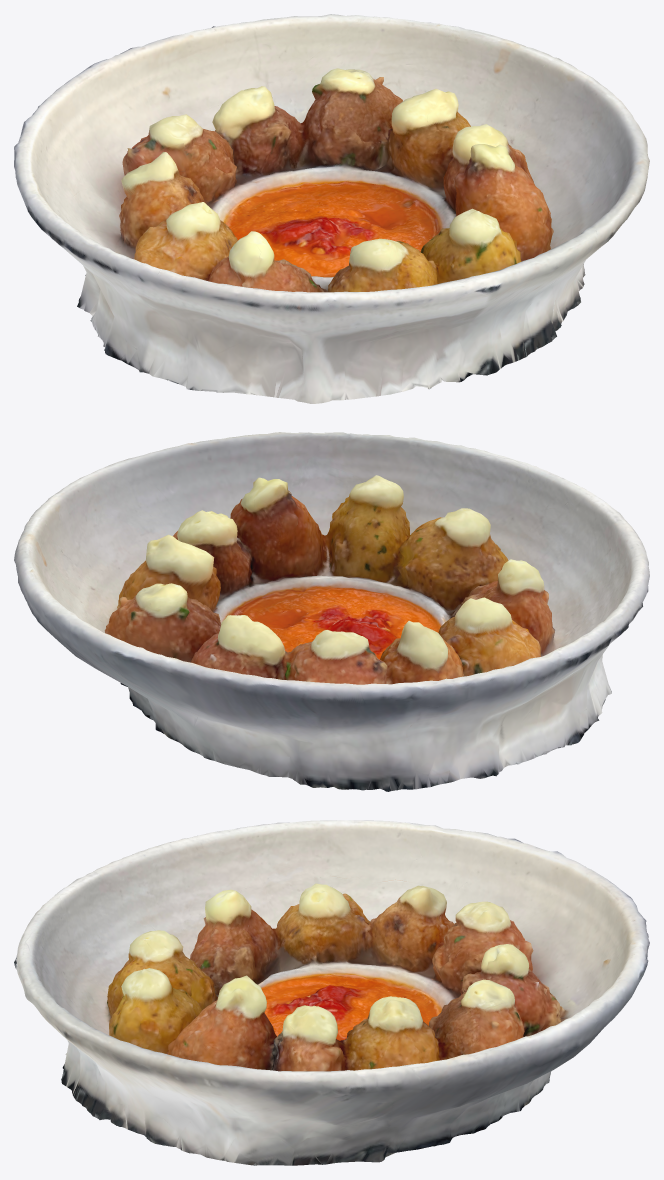
File: patatas_bravas.glb
The picture shows the model from 3 angles, top to bottom: view 1: azimuth 30°, elevation 25°; view 2: azimuth 150°, elevation 25°; view 3: azimuth 270°, elevation 25°; orthographic projection.
Visible parts, largest first — view 1: Object_2; view 2: Object_2; view 3: Object_2.
Boxes of the visible parts, x1,y1,x2,y2 form: Object_2: (14,14,649,403); Object_2: (14,432,649,791); Object_2: (14,820,649,1165).
Size of the model in its own units: 0.1986 by 0.0523 by 0.1983.
Materials: 1 (1 with a texture image).
